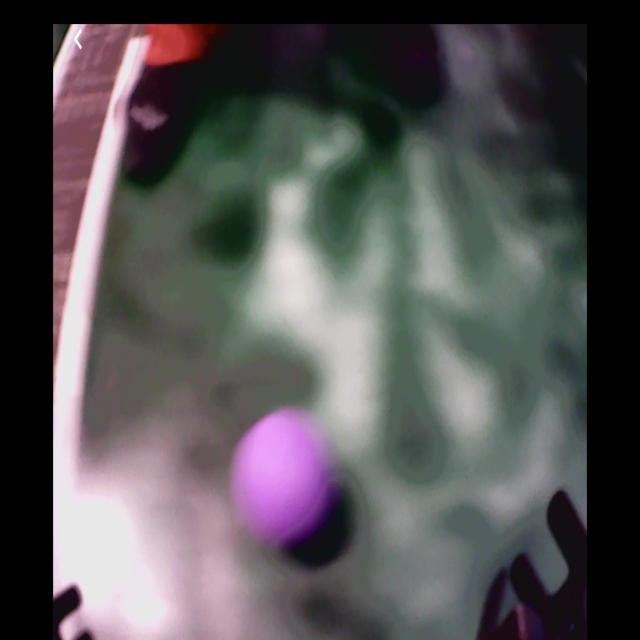ball: (240, 414, 331, 541)
